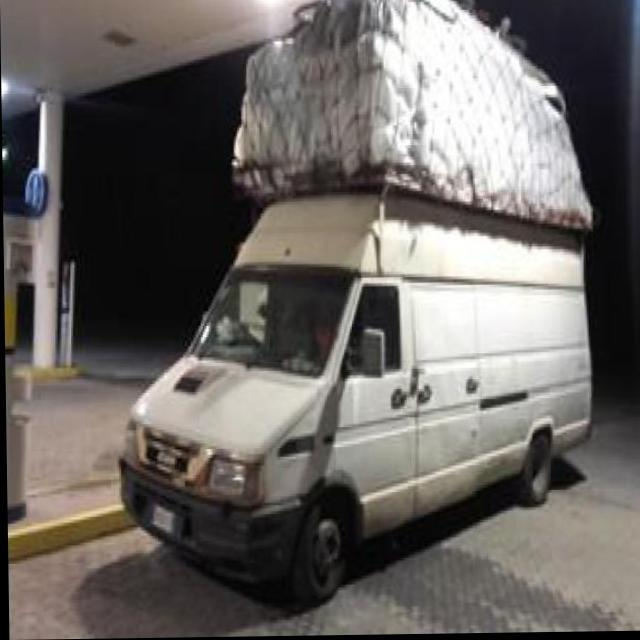uncovered: (110, 0, 600, 609)
